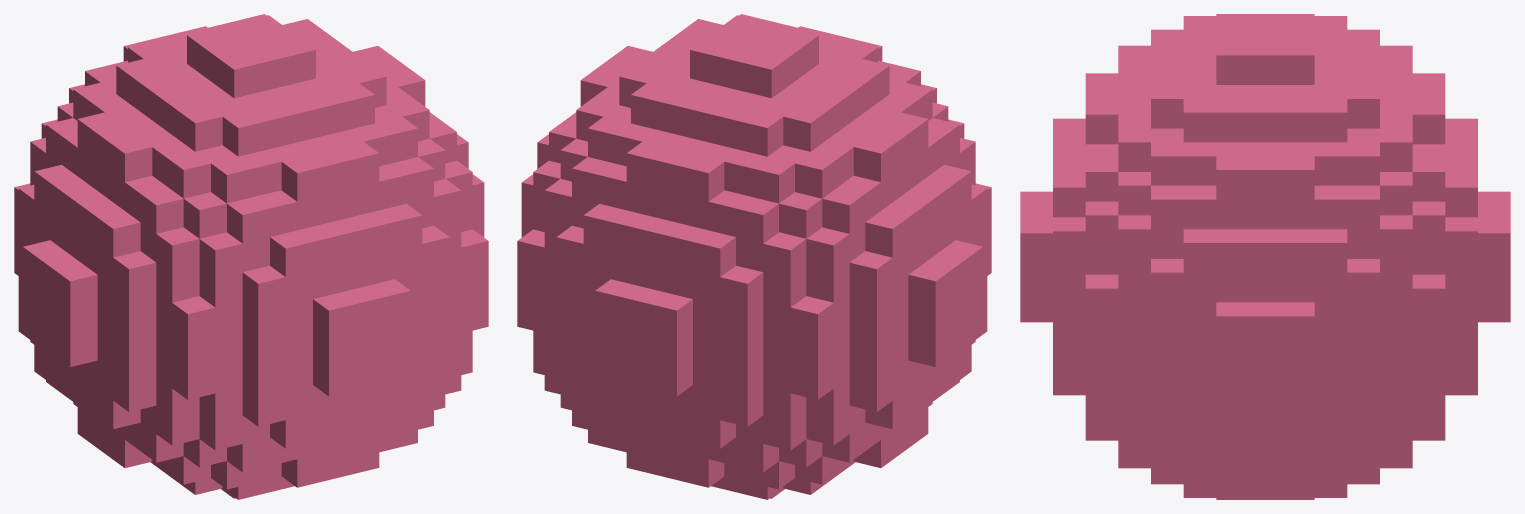
File: Ball.fbx
3 views of the same model, side by side, from view 1: azimuth 30°, elevation 25°; view 2: azimuth 150°, elevation 25°; view 3: azimuth 270°, elevation 25° (orthographic). The views are drawn at different scales.
Visible parts, largest first — view 1: Sphere; view 2: Sphere; view 3: Sphere.
Boxes of the visible parts, bbox=[...] form: Sphere: bbox=[14, 14, 488, 499]; Sphere: bbox=[517, 14, 991, 499]; Sphere: bbox=[1020, 14, 1510, 499].
Size of the model in its own units: 208 by 208 by 208.
